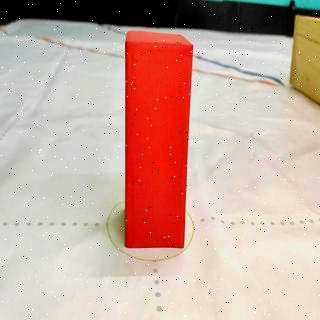redbox: (124, 31, 193, 248)
